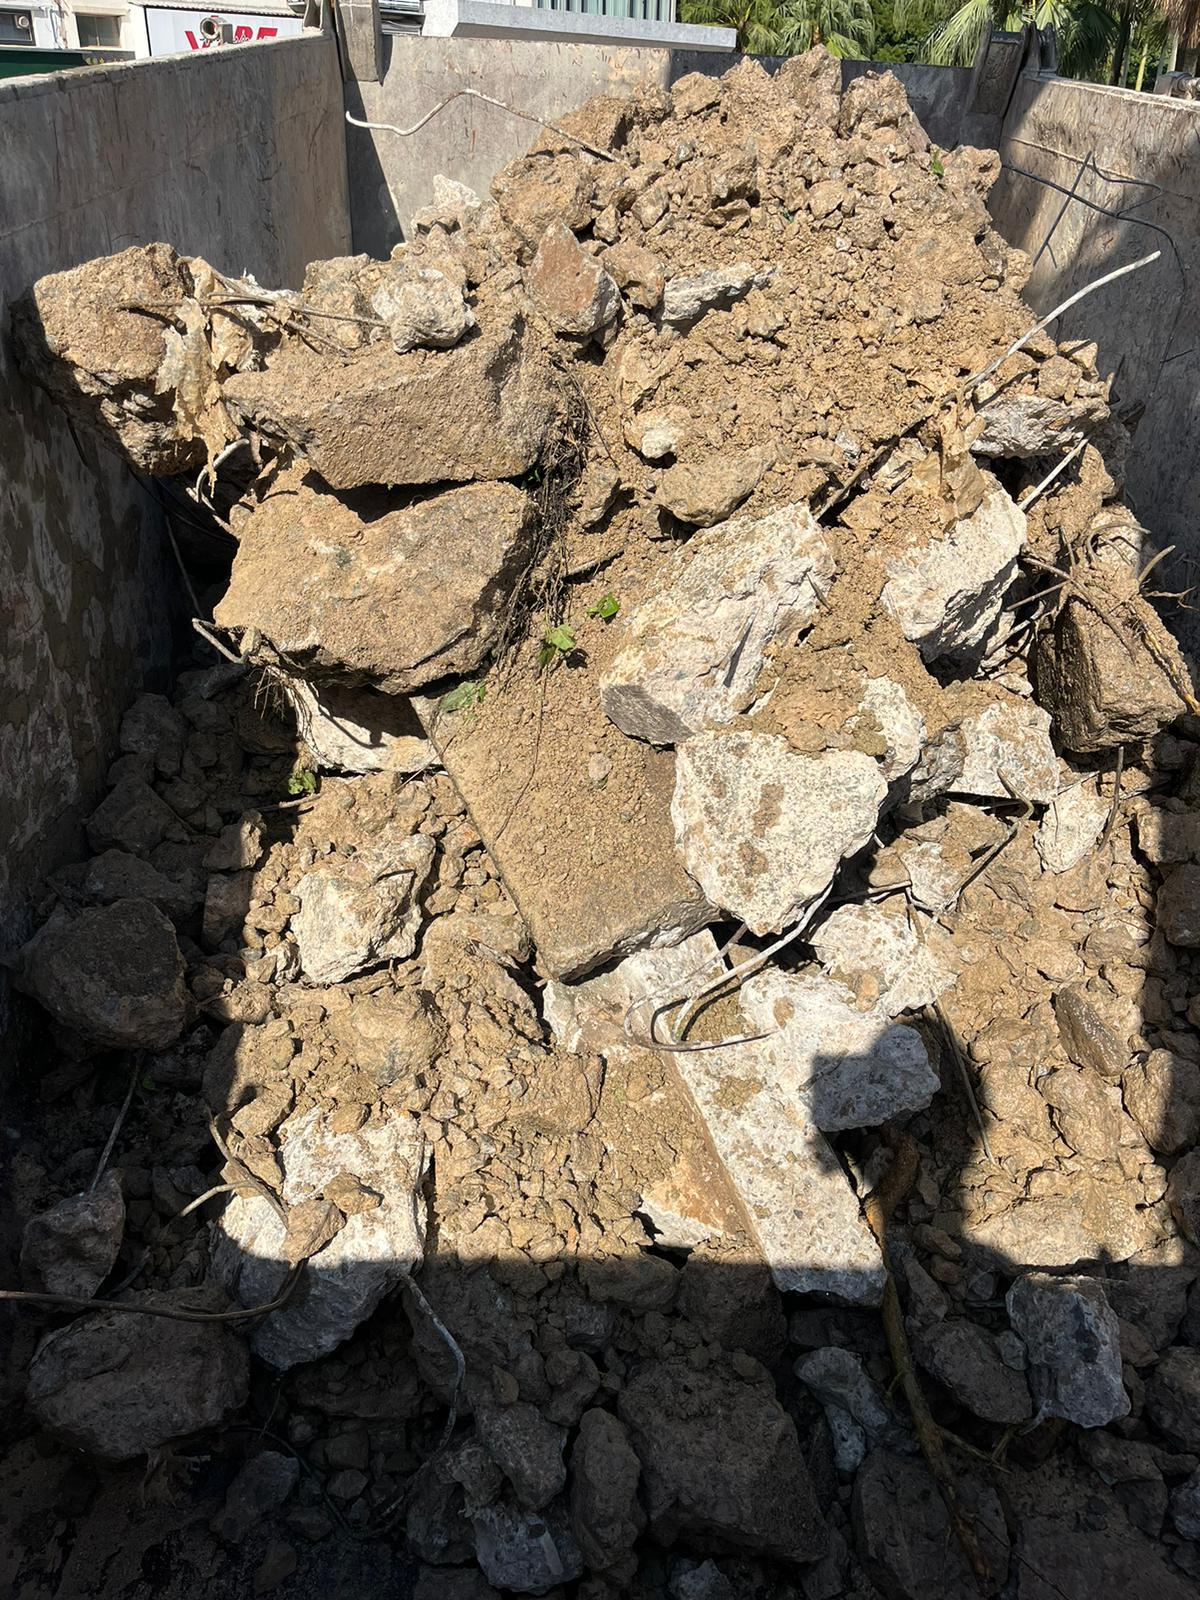dry: (30, 78, 1180, 1587)
